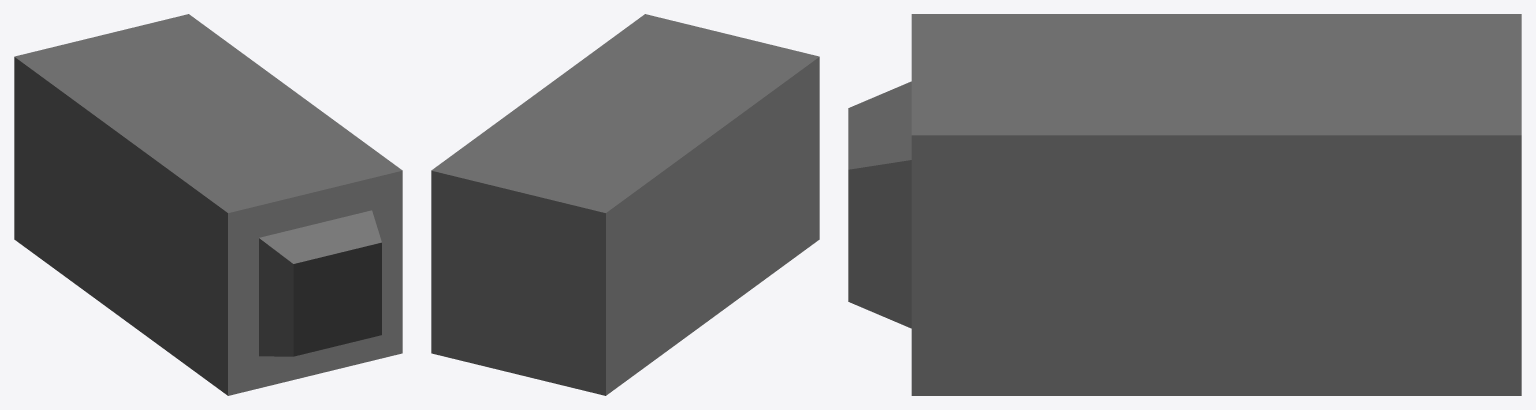
File: Exhaust_Muffler_1.fbx
The picture shows the model from 3 angles, left to right: view 1: azimuth 30°, elevation 25°; view 2: azimuth 150°, elevation 25°; view 3: azimuth 270°, elevation 25°; orthographic projection. The views are drawn at different scales.
Visible parts, largest first — view 1: Exhaust_Muffler_1; view 2: Exhaust_Muffler_1; view 3: Exhaust_Muffler_1.
Boxes of the visible parts, left/top/right/bottom form: Exhaust_Muffler_1: left=14, top=14, right=402, bottom=395; Exhaust_Muffler_1: left=431, top=14, right=819, bottom=395; Exhaust_Muffler_1: left=848, top=14, right=1521, bottom=395.
Size of the model in its own units: 25.1 by 25.1 by 58.8.
